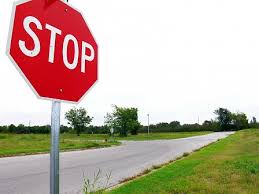stop_sign: (6, 1, 100, 102)
